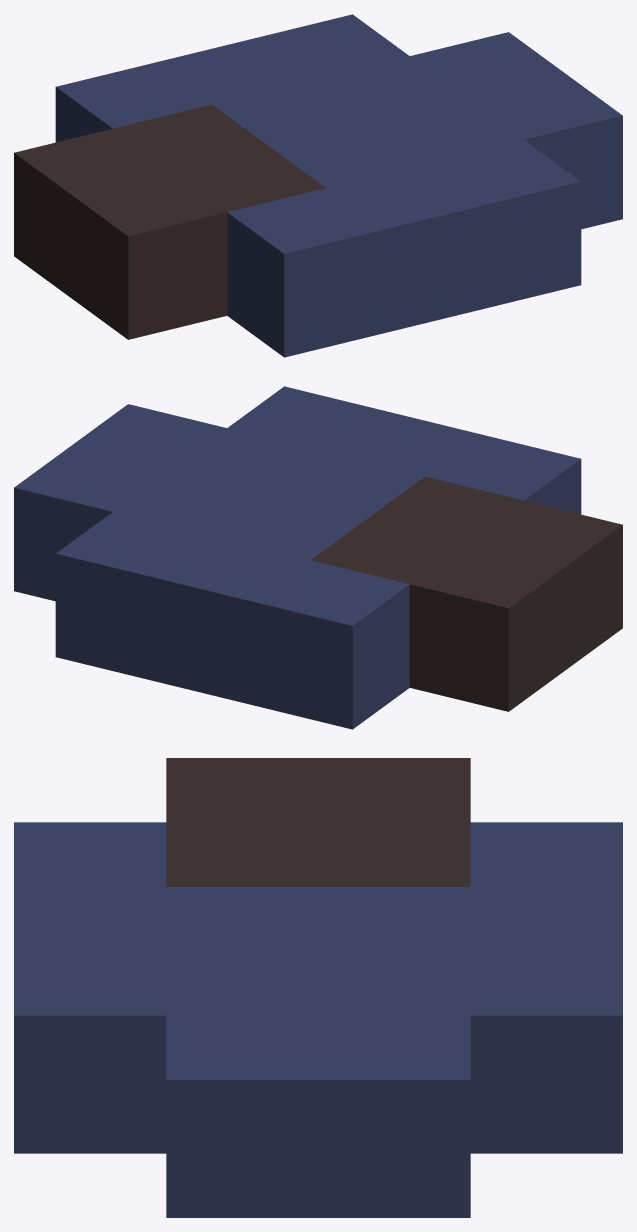
Rendered from Palanquita_Tostadora.fbx.
3 views of the same model, one above another, from view 1: azimuth 30°, elevation 25°; view 2: azimuth 150°, elevation 25°; view 3: azimuth 270°, elevation 25° (orthographic). The views are drawn at different scales.
Parts seen in each view (by area): view 1: PalanquitaTostadora; view 2: PalanquitaTostadora; view 3: PalanquitaTostadora.
Part boxes in pixels (box(x1,y1,x2,y2)): PalanquitaTostadora: box(14, 14, 622, 357); PalanquitaTostadora: box(14, 386, 622, 729); PalanquitaTostadora: box(14, 758, 622, 1217).
Size of the model in its own units: 50 by 10 by 40.
